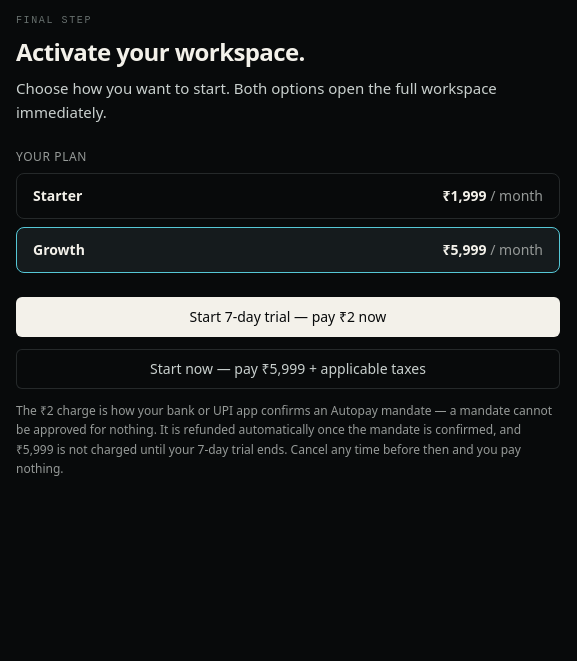
Test: activation page › tells the merchant when the browser blocks the payment window
The width and height of the screenshot is (577, 661).
Click the button "Start 7-day trial — pay ₹2 now" at (288, 317), box [16,297,560,337]
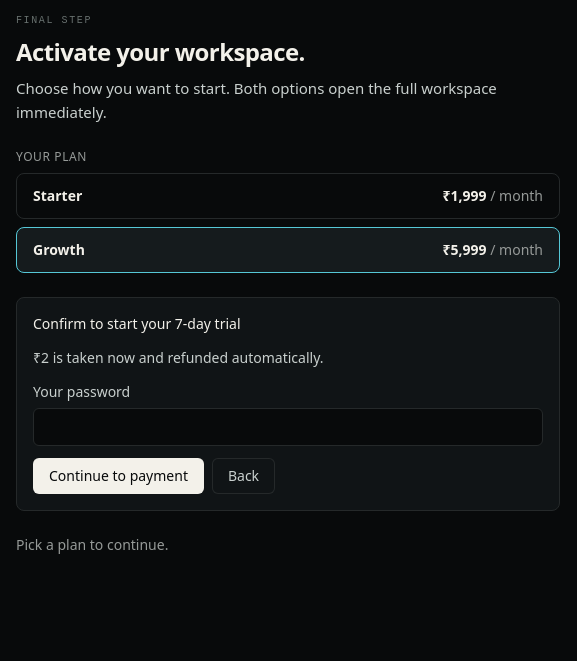
Type "hunter2hunter2" into the password field labelled "Your password" at (288, 427), box [33,408,543,446]
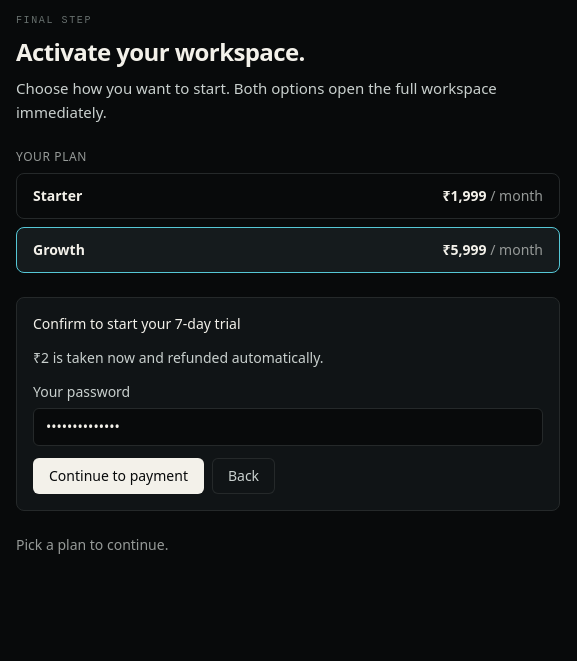
Click the button "Continue to payment" at (118, 476), box [33,458,204,494]
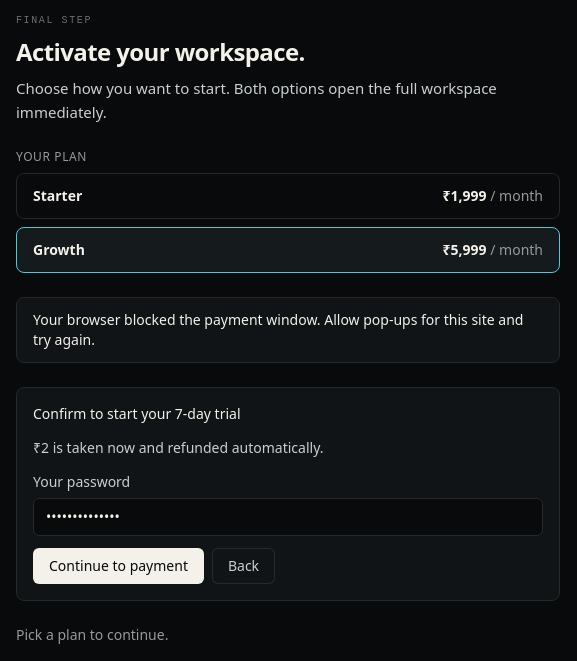
expect the message shows "pop-ups": met, box [33,310,523,349]
